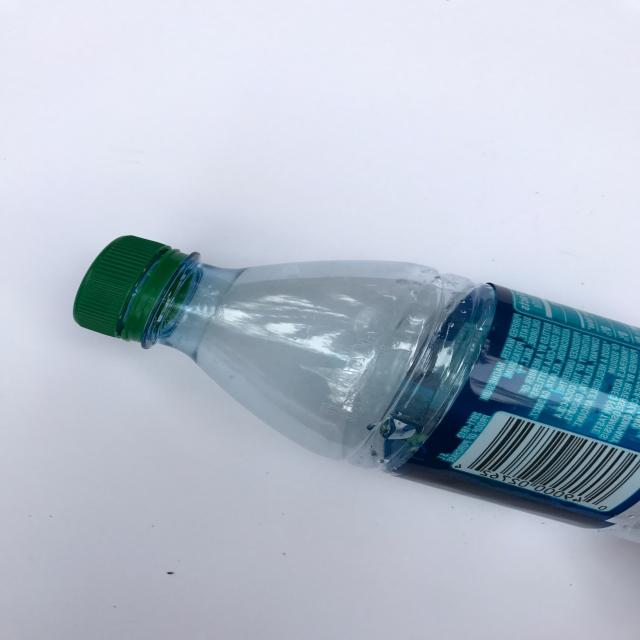plastic: (72, 233, 640, 543)
